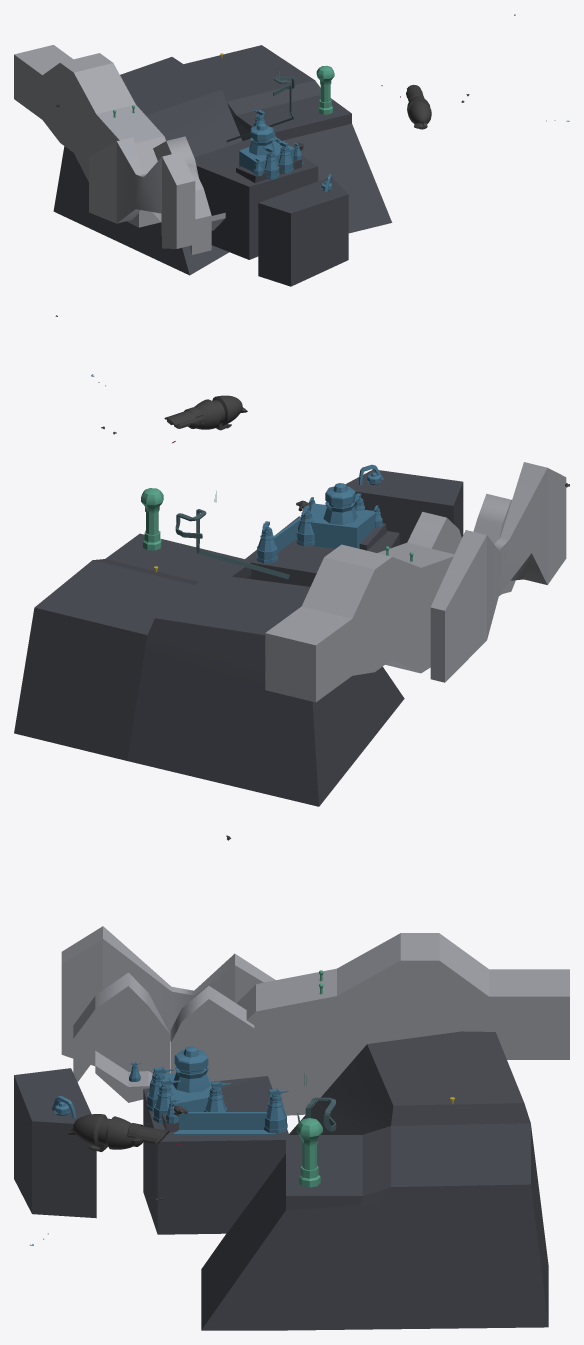
Rendered from Set setting.fbx.
3 views of the same model, one above another, from view 1: azimuth 30°, elevation 25°; view 2: azimuth 150°, elevation 25°; view 3: azimuth 270°, elevation 25° (orthographic). The views are drawn at different scales.
Parts seen in each view (by area): view 1: rock_platform_magnet, main_mnt, rock_platform_corner, back_mnt, Rock_platform_main, front_mnt, mothership, closest_mnt, pCylinder8, pCylinder4, pCube1, magnet_path; view 2: rock_platform_magnet, main_mnt, back_mnt, rock_platform_corner, Rock_platform_main, pCube1, mothership, closest_mnt, front_mnt, pCylinder8, pCylinder4, magnet_path; view 3: rock_platform_magnet, main_mnt, Rock_platform_main, rock_platform_corner, back_mnt, front_mnt, closest_mnt, mothership, wall, pCylinder8, pCylinder4, pCube1 (+1 smaller).
Part boxes in pixels (x1=…): rock_platform_magnet: x1=53, y1=45, x2=392, y2=275; main_mnt: x1=14, y1=45, x2=165, y2=227; rock_platform_corner: x1=258, y1=177, x2=348, y2=286; back_mnt: x1=89, y1=137, x2=195, y2=248; Rock_platform_main: x1=194, y1=138, x2=318, y2=259; front_mnt: x1=187, y1=164, x2=225, y2=254; mothership: x1=406, y1=84, x2=431, y2=129; closest_mnt: x1=153, y1=136, x2=198, y2=177; pCylinder8: x1=249, y1=123, x2=274, y2=155; pCylinder4: x1=316, y1=65, x2=334, y2=114; pCube1: x1=239, y1=141, x2=294, y2=171; magnet_path: x1=226, y1=76, x2=294, y2=142; rock_platform_magnet: x1=14, y1=533, x2=404, y2=806; main_mnt: x1=265, y1=543, x2=454, y2=702; back_mnt: x1=430, y1=462, x2=566, y2=682; rock_platform_corner: x1=345, y1=470, x2=463, y2=544; Rock_platform_main: x1=245, y1=516, x2=399, y2=586; pCube1: x1=310, y1=503, x2=376, y2=548; mothership: x1=164, y1=395, x2=247, y2=430; closest_mnt: x1=407, y1=511, x2=461, y2=554; front_mnt: x1=473, y1=493, x2=515, y2=595; pCylinder8: x1=323, y1=483, x2=357, y2=524; pCylinder4: x1=141, y1=488, x2=163, y2=550; magnet_path: x1=175, y1=509, x2=289, y2=579; rock_platform_magnet: x1=201, y1=1031, x2=548, y2=1330; main_mnt: x1=236, y1=933, x2=569, y2=1115; Rock_platform_main: x1=143, y1=1076, x2=288, y2=1234; rock_platform_corner: x1=14, y1=1068, x2=96, y2=1218; back_mnt: x1=61, y1=926, x2=275, y2=1065; front_mnt: x1=73, y1=972, x2=170, y2=1102; closest_mnt: x1=170, y1=986, x2=254, y2=1081; mothership: x1=68, y1=1114, x2=169, y2=1151; wall: x1=173, y1=1112, x2=275, y2=1135; pCylinder8: x1=173, y1=1046, x2=210, y2=1092; pCylinder4: x1=296, y1=1118, x2=322, y2=1187; pCube1: x1=164, y1=1073, x2=211, y2=1117.
Size of the model in its own units: 14623 by 6599 by 11198.
